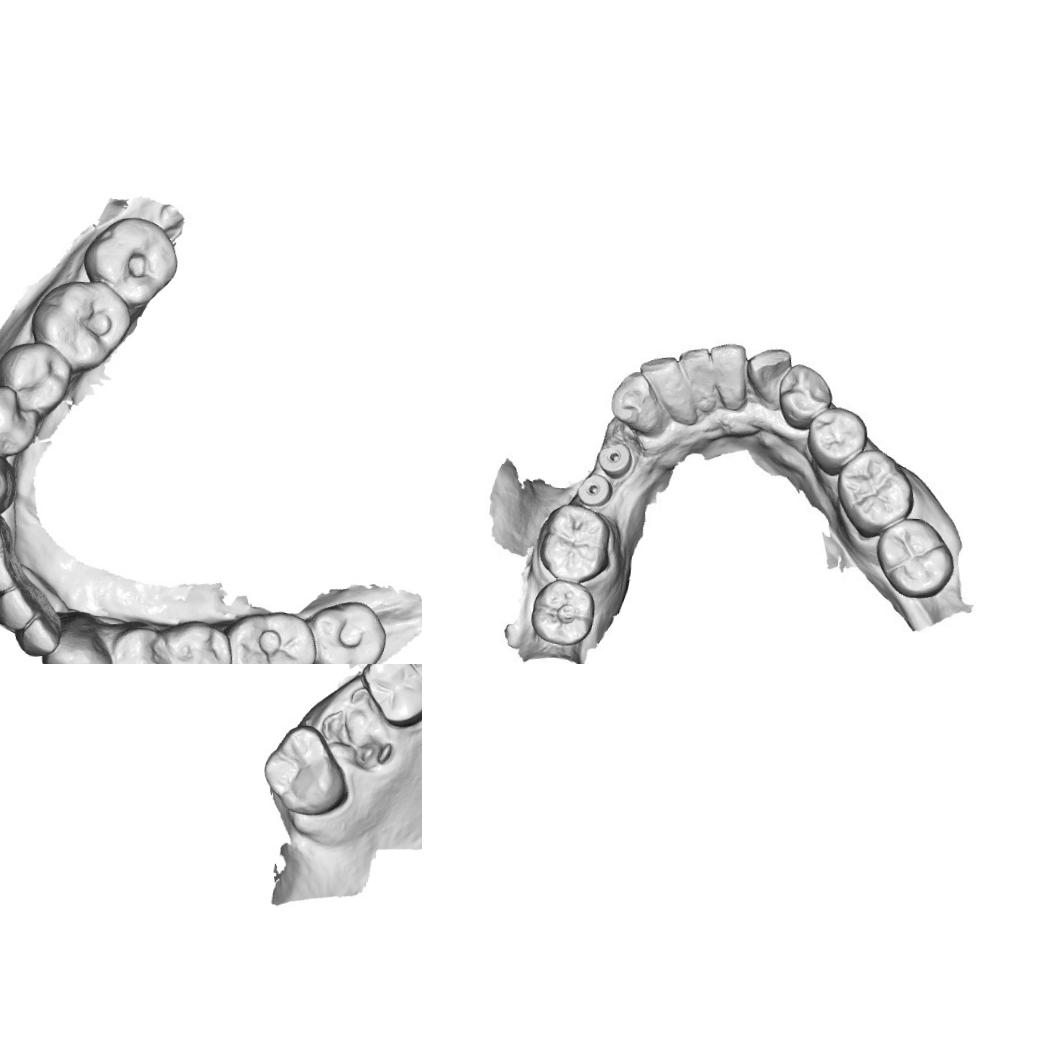canine: (610, 368, 667, 440), (40, 612, 114, 664), (742, 341, 797, 409), (0, 446, 20, 519)
implant: (598, 436, 637, 474), (576, 470, 613, 504)
incisor: (635, 352, 689, 401), (674, 338, 720, 389), (17, 611, 58, 660), (704, 338, 750, 381), (0, 584, 41, 632), (0, 549, 25, 598)
molar: (25, 277, 135, 374), (78, 211, 182, 310), (259, 721, 353, 819), (830, 443, 919, 541), (871, 516, 955, 600), (303, 599, 390, 664), (540, 507, 612, 584), (224, 605, 316, 664), (528, 578, 598, 648)
premolar: (0, 336, 74, 417), (803, 403, 868, 478), (774, 361, 834, 433), (356, 664, 422, 729), (159, 617, 231, 664), (0, 383, 41, 458), (105, 622, 170, 664)
